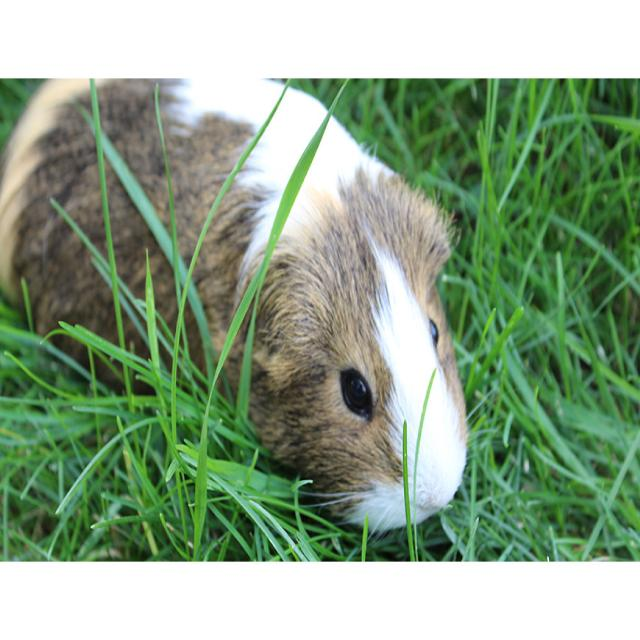guinea pig: (2, 79, 468, 531)
